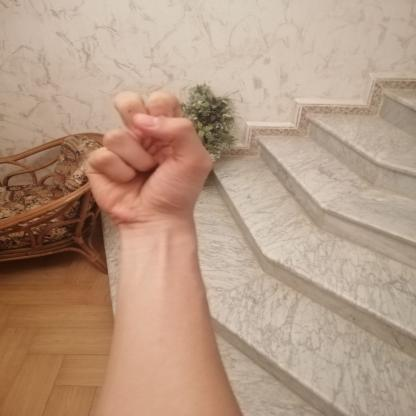QAAF: (64, 82, 233, 232)
